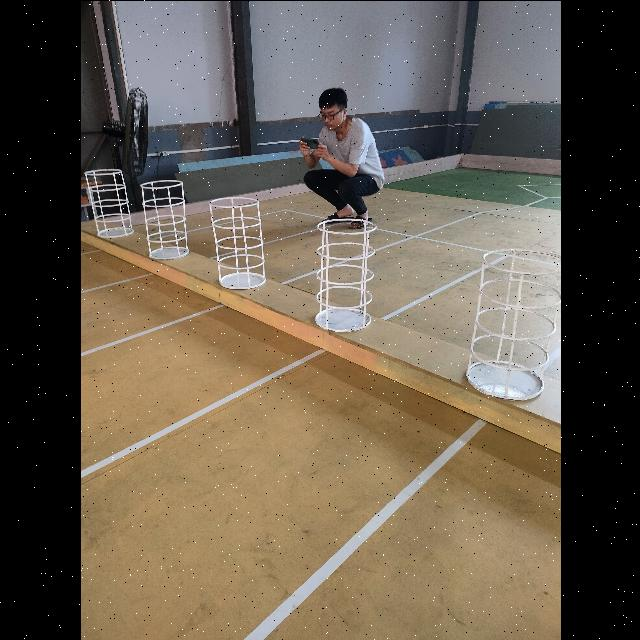S: (462, 245, 560, 404), (310, 217, 376, 336), (207, 195, 267, 291), (136, 176, 190, 260), (83, 166, 135, 240)
